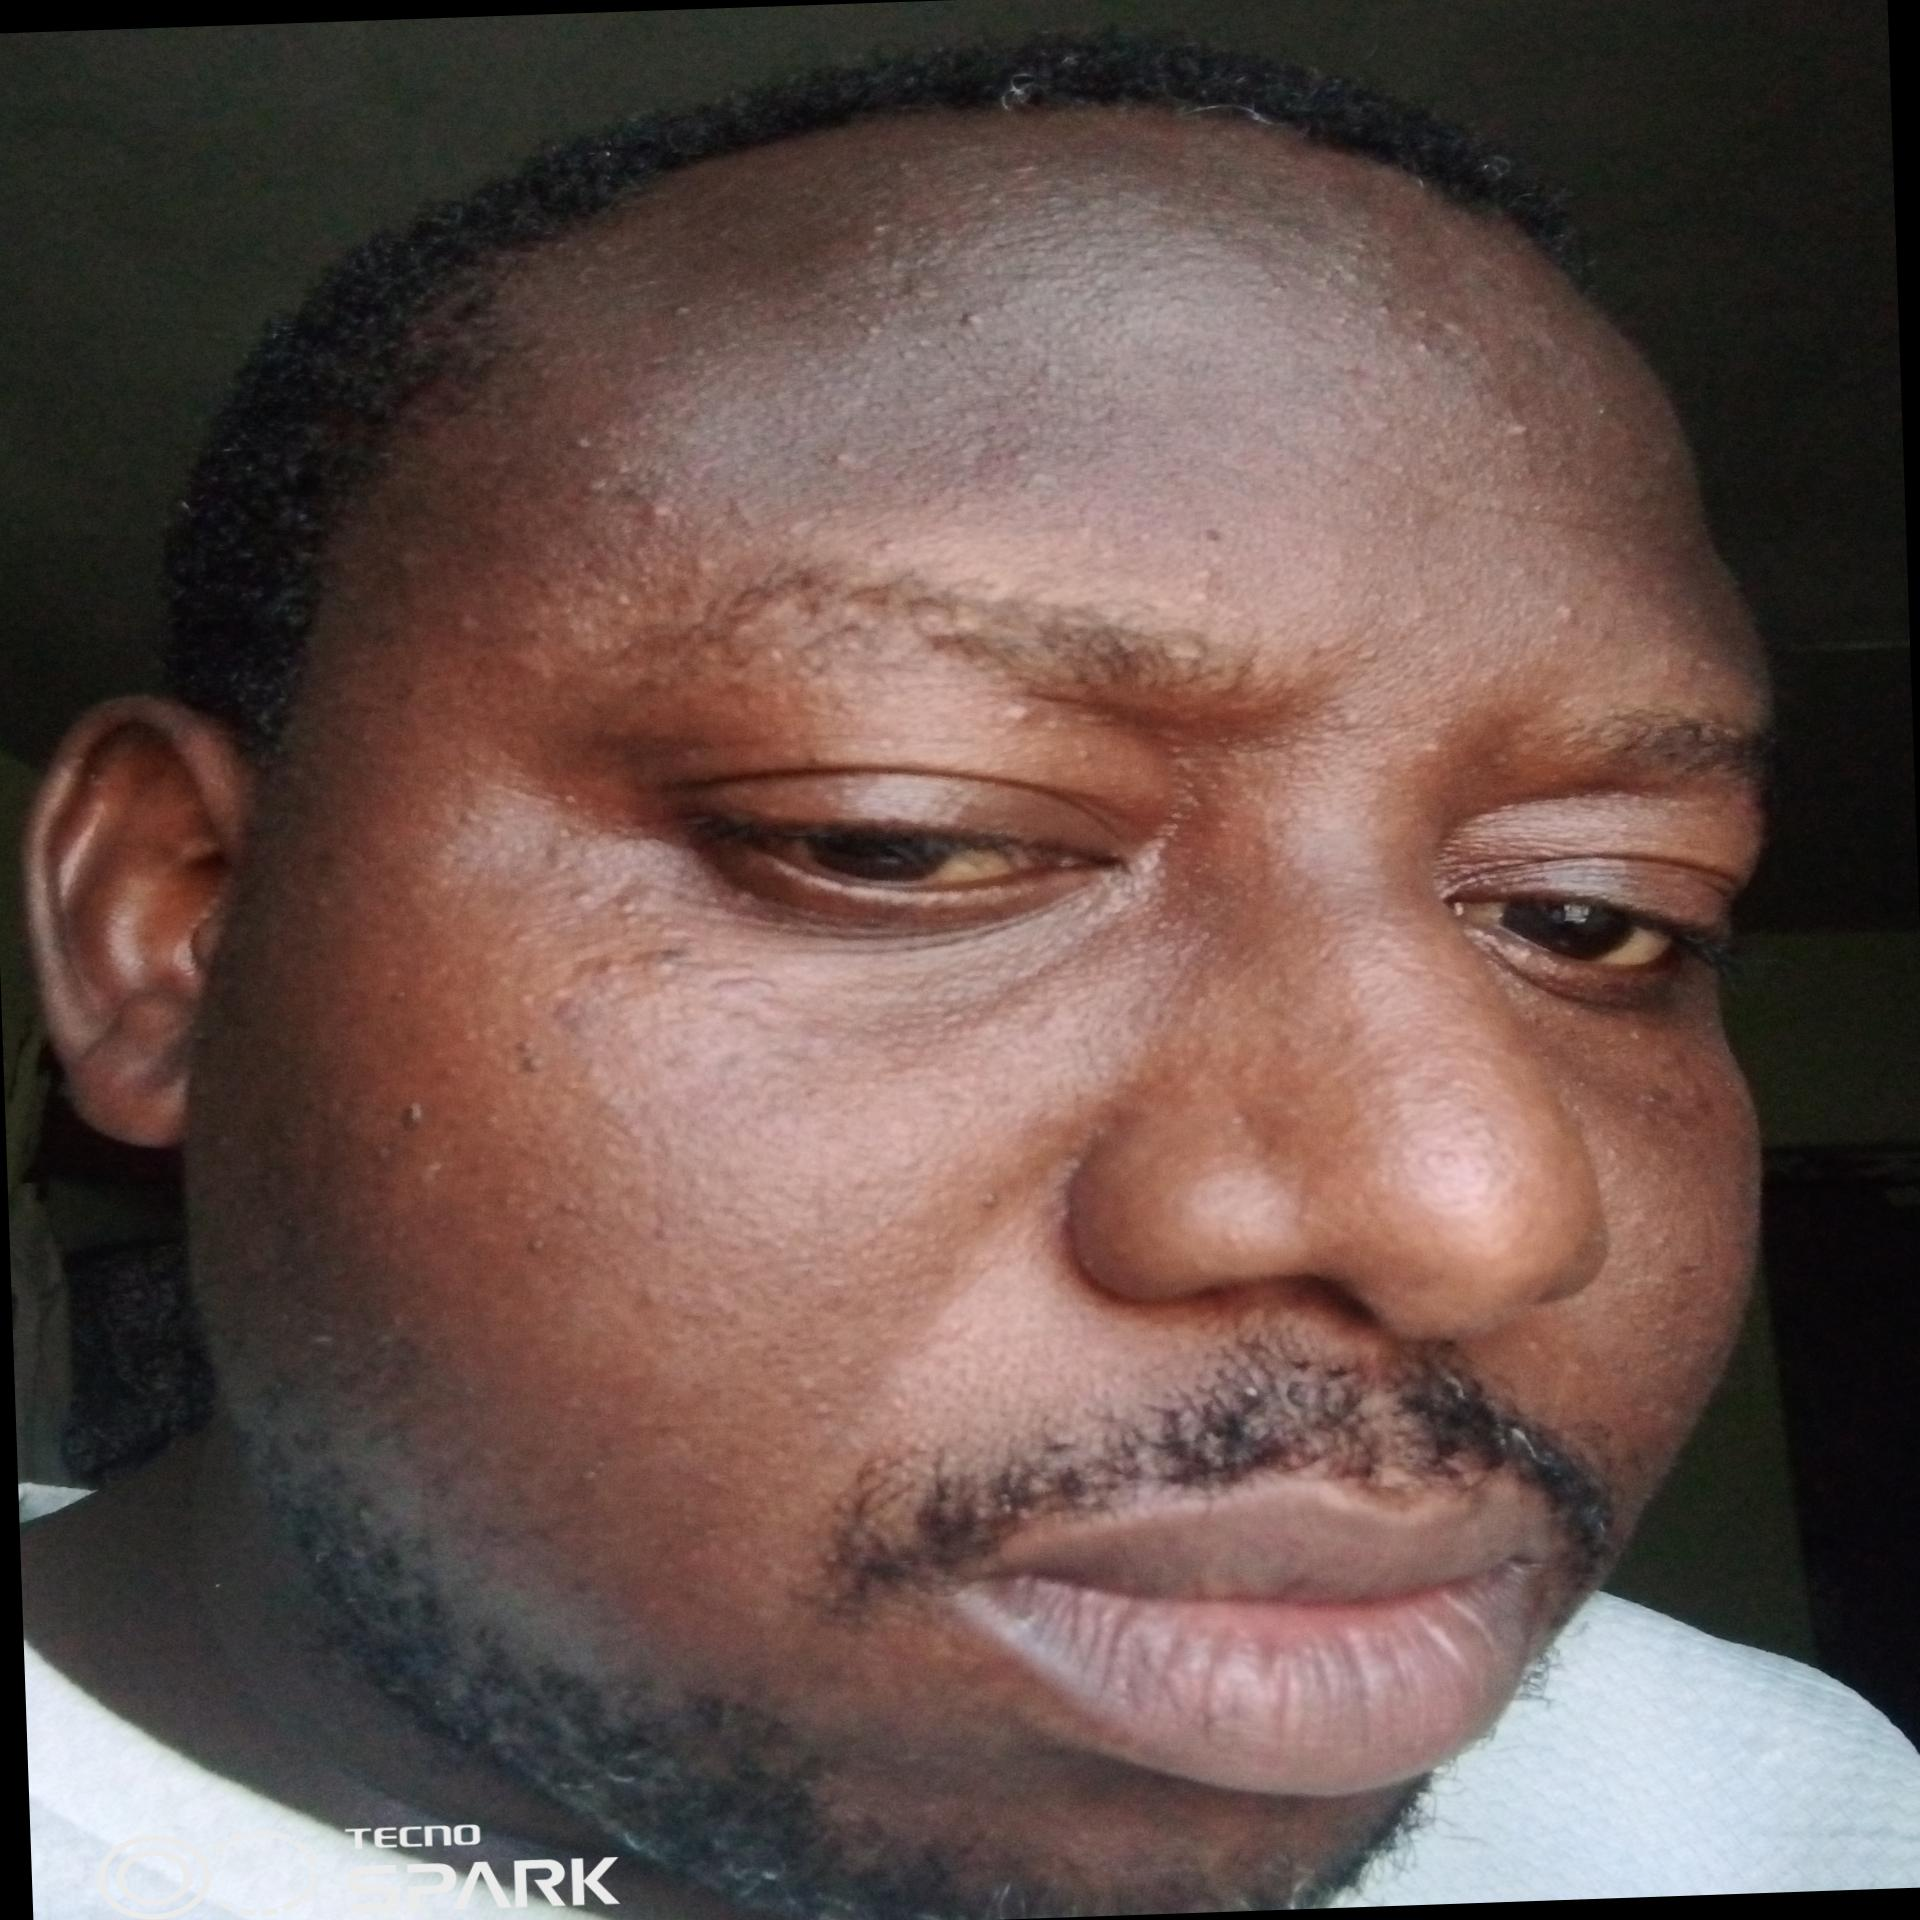Acne: (1363, 283, 1449, 371), (578, 461, 689, 524), (979, 687, 1067, 742), (925, 301, 992, 343), (554, 874, 600, 925), (1486, 413, 1540, 454), (1526, 598, 1591, 631), (823, 436, 877, 475), (1410, 730, 1456, 770), (559, 431, 593, 469), (855, 218, 893, 246), (661, 297, 696, 325)
Wrinkles: (1370, 464, 1705, 550)
